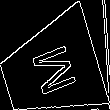M_W: (24, 39, 78, 99)
